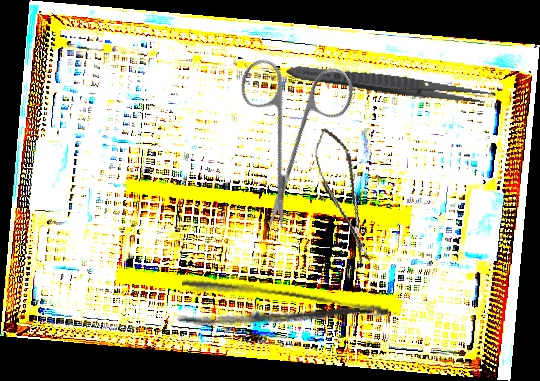Dressing Forceps: (176, 275, 392, 352), (284, 60, 497, 108)
Iris Scissors: (186, 22, 397, 233)
Micro Scissor: (308, 123, 379, 269)
